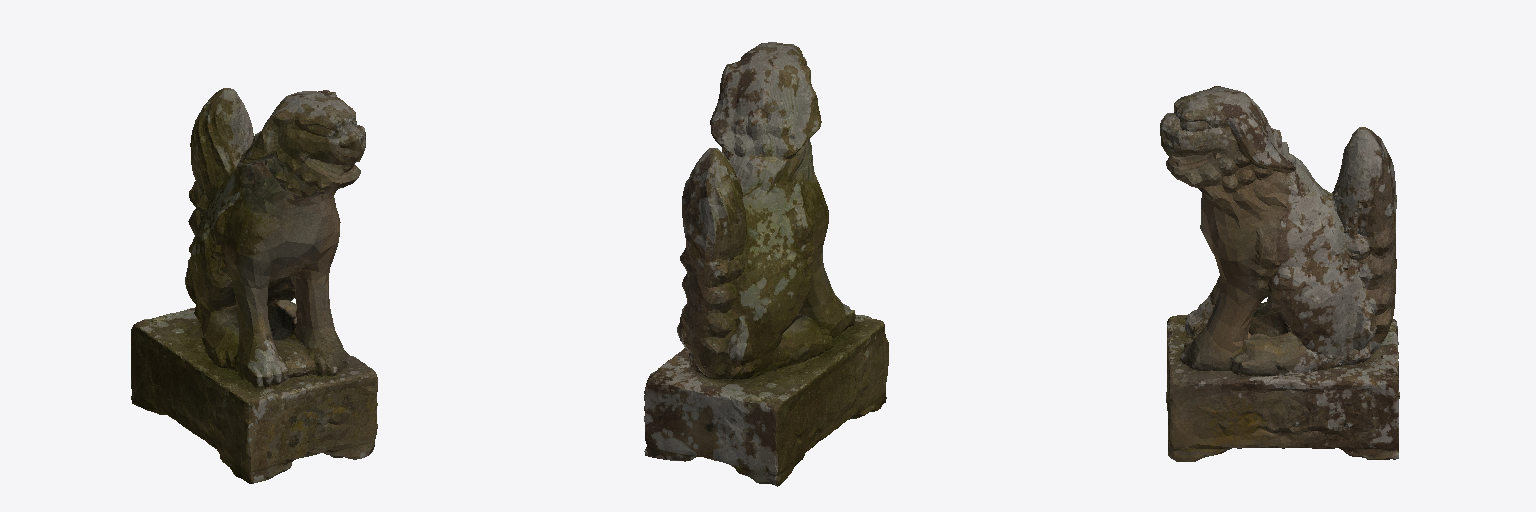
3 views of the same model, side by side, from view 1: azimuth 30°, elevation 25°; view 2: azimuth 150°, elevation 25°; view 3: azimuth 270°, elevation 25° (orthographic).
Visible parts, largest first — view 1: Aset_stone_carved_M_ubrpbjcfa_LOD0_Aset_stone_carved_M_ubrpbjcfa; view 2: Aset_stone_carved_M_ubrpbjcfa_LOD0_Aset_stone_carved_M_ubrpbjcfa; view 3: Aset_stone_carved_M_ubrpbjcfa_LOD0_Aset_stone_carved_M_ubrpbjcfa.
Boxes of the visible parts, x1,y1,x2,y2 form: Aset_stone_carved_M_ubrpbjcfa_LOD0_Aset_stone_carved_M_ubrpbjcfa: [131, 88, 377, 483]; Aset_stone_carved_M_ubrpbjcfa_LOD0_Aset_stone_carved_M_ubrpbjcfa: [644, 42, 888, 486]; Aset_stone_carved_M_ubrpbjcfa_LOD0_Aset_stone_carved_M_ubrpbjcfa: [1160, 86, 1399, 461].
Size of the model in its own units: 0.6558 by 1.61 by 1.
Materials: 1 (1 with a texture image).